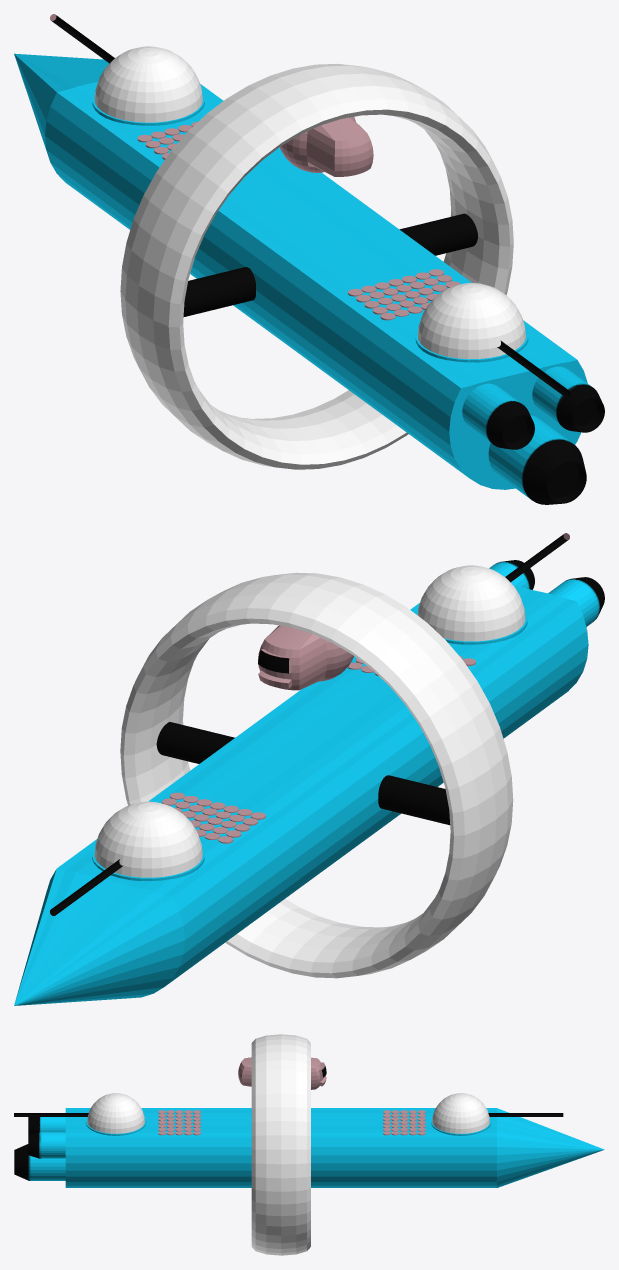
The model's file is BlueforFrigate.fbx.
The picture shows the model from 3 angles, top to bottom: view 1: azimuth 30°, elevation 25°; view 2: azimuth 150°, elevation 25°; view 3: azimuth 270°, elevation 25°; orthographic projection. The views are drawn at different scales.
Parts seen in each view (by area): view 1: Cylinder.044; view 2: Cylinder.044; view 3: Cylinder.044.
Part boxes in pixels (x1,y1,x2,y2): Cylinder.044: [14, 14, 604, 504]; Cylinder.044: [14, 533, 604, 1005]; Cylinder.044: [14, 1034, 604, 1255].
Bounding box in the file's own units: 1027 × 1027 × 2739.
Materials: 1 (1 with a texture image).
